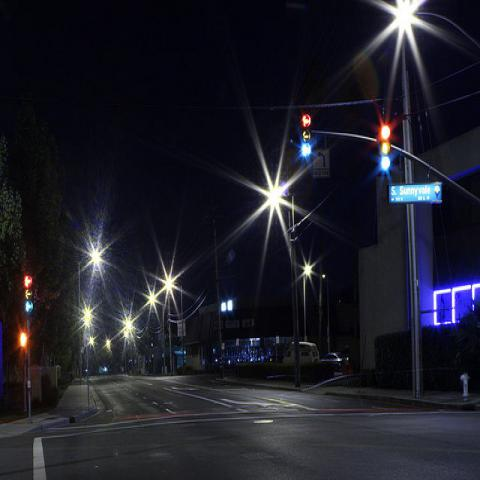car: (284, 341, 319, 365), (320, 352, 348, 371)
truck: (283, 342, 320, 364)
